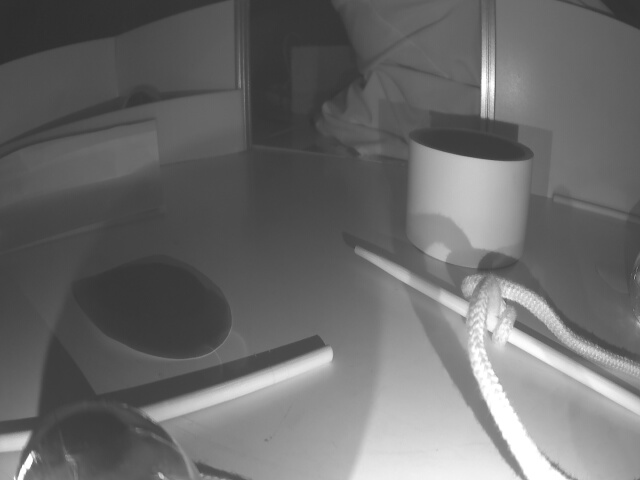Live: (14, 401, 194, 480)
Point: (4, 91, 240, 187)
